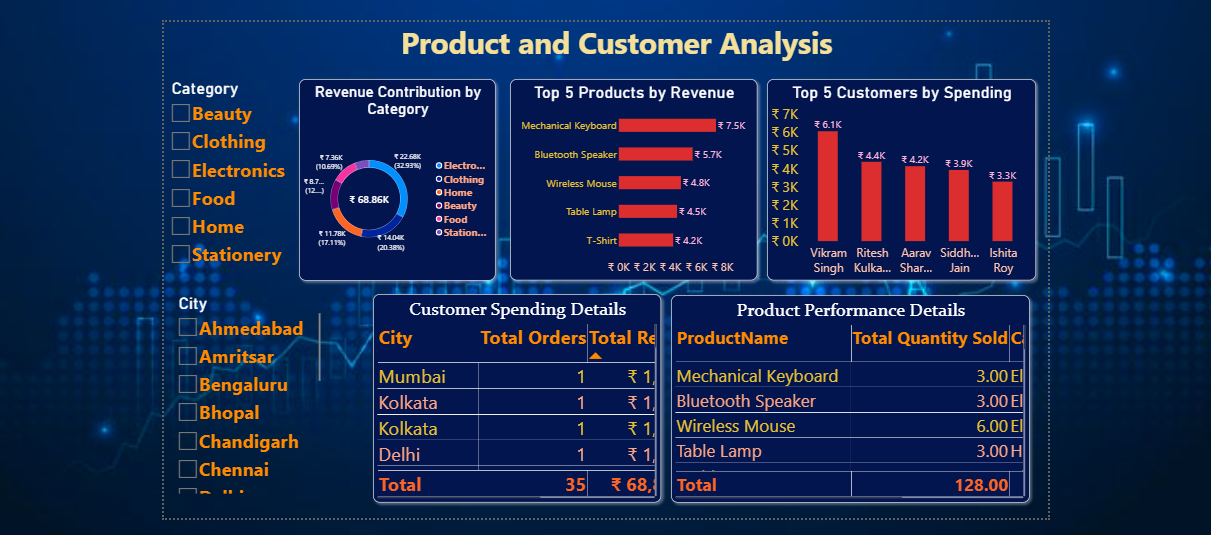

The page's visual inventory and layout, read from the dashboard file:
{"tool":"powerbi","page":{"name":"Product and Customer Analysis","canvas":[3840,2160],"ordinal":1},"visuals":[{"type":"textbox","box":[13,0,3827.5,203],"z":0},{"type":"clusteredBarChart","title":"Top 5 Products by Revenue","fields":{"Category":["Products.ProductName"],"Y":["OrderItems.Total Revenue"]},"box":[1504.1,247.4,1076.1,875.8],"z":1000},{"type":"clusteredColumnChart","title":"Top 5 Customers by Spending","fields":{"Category":["Customers.CustomerName"],"Y":["OrderItems.Total Revenue"]},"box":[2623.4,247.4,1170.3,875.8],"z":2000},{"type":"donutChart","title":"Revenue Contribution by Category","fields":{"Category":["Products.Category"],"Y":["OrderItems.Total Revenue"]},"box":[589.1,247.4,855.4,877],"z":3000},{"type":"tableEx","title":"Product Performance Details","fields":{"Values":["Products.ProductName","OrderItems.Total Quantity Sold","Products.Category","OrderItems.Total Revenue"]},"box":[2203.2,1188,1559.5,902.9],"z":4000},{"type":"tableEx","title":"Customer Spending Details","fields":{"Values":["Customers.City","OrderItems.Total Orders","OrderItems.Total Revenue","Customers.CustomerName"]},"box":[907.2,1183.7,1252.8,907.2],"z":5000},{"type":"slicer","fields":{"Values":["Customers.City"]},"box":[55,1182.1,624.4,867.9],"z":6000},{"type":"slicer","fields":{"Values":["Products.Category"]},"box":[27.5,247.4,534.1,934.7],"z":7000}]}

Visuals, with their boxes on the page's 3840x2160 design canvas (x1, y1, x2, y2). These are canvas units, not pixel positions in the 1211x535 screenshot, which may show the page scaled, cropped or inside an application window:
textbox: <bbox>13, 0, 3840, 203</bbox>
"Top 5 Products by Revenue" clusteredBarChart: <bbox>1504, 247, 2580, 1123</bbox>
"Top 5 Customers by Spending" clusteredColumnChart: <bbox>2623, 247, 3794, 1123</bbox>
"Revenue Contribution by Category" donutChart: <bbox>589, 247, 1444, 1124</bbox>
"Product Performance Details" tableEx: <bbox>2203, 1188, 3763, 2091</bbox>
"Customer Spending Details" tableEx: <bbox>907, 1184, 2160, 2091</bbox>
slicer - Customers.City: <bbox>55, 1182, 679, 2050</bbox>
slicer - Products.Category: <bbox>28, 247, 562, 1182</bbox>
